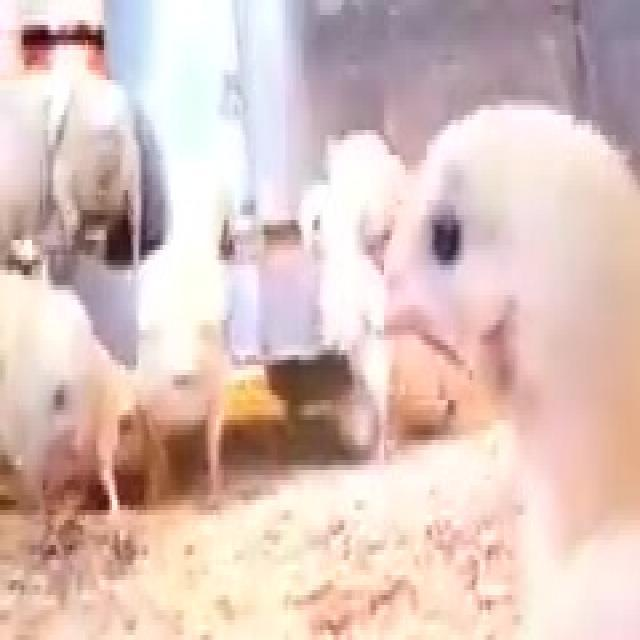poussin: (371, 99, 640, 640), (0, 286, 135, 565), (289, 174, 407, 452), (34, 64, 154, 289), (134, 252, 230, 501)
